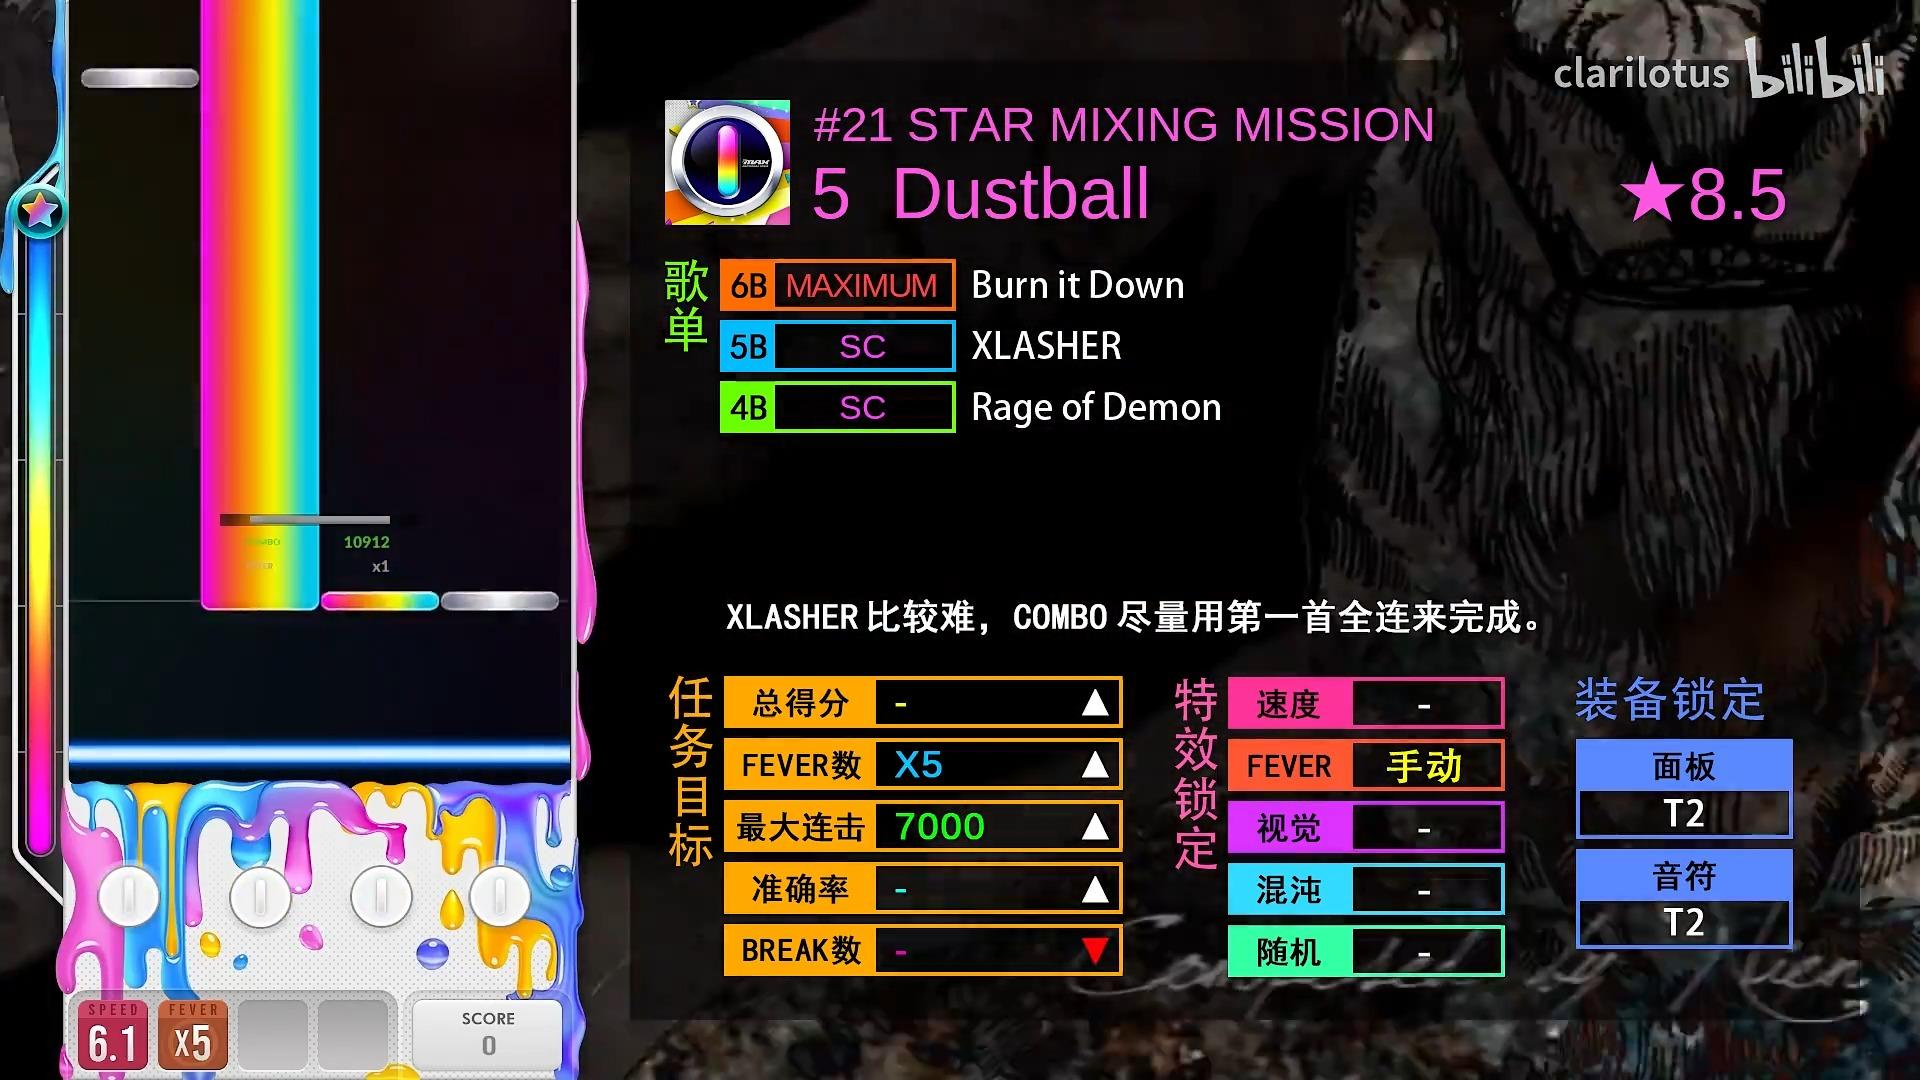hold-start: (200, 592, 320, 611)
note: (320, 591, 439, 612), (440, 591, 559, 612), (80, 67, 199, 88)
